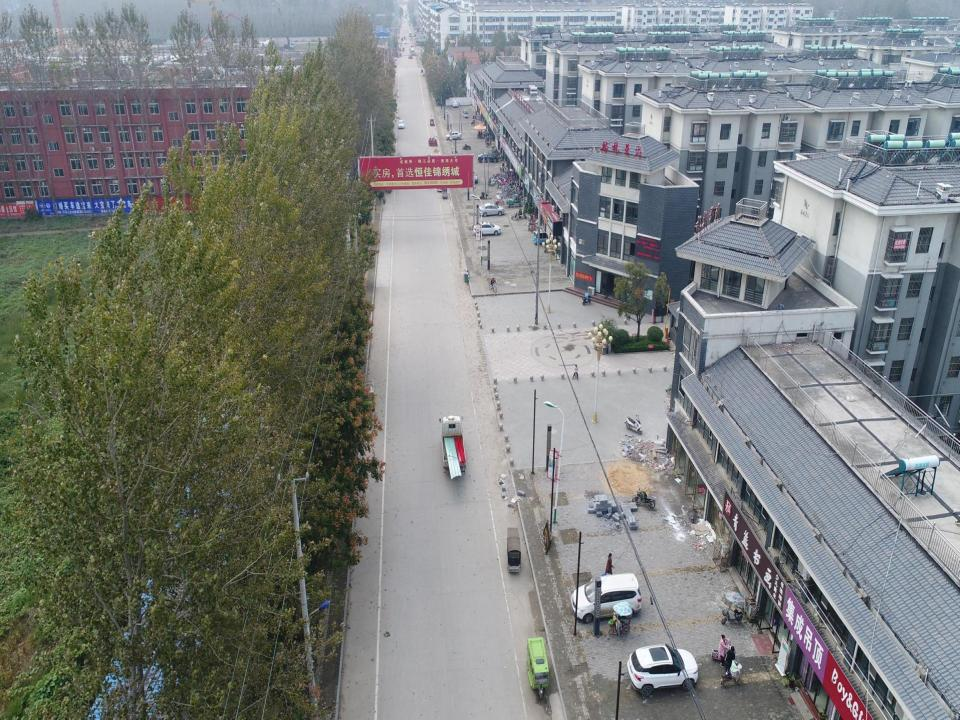car: (626, 643, 700, 697), (571, 572, 642, 624), (473, 220, 500, 236), (479, 202, 505, 217), (477, 152, 498, 163), (467, 167, 478, 184), (434, 179, 446, 193), (445, 131, 461, 140), (452, 100, 460, 108), (398, 119, 404, 128), (390, 55, 398, 61), (390, 63, 398, 68), (403, 39, 408, 46), (408, 54, 413, 59)
truck: (439, 416, 467, 476), (408, 29, 412, 37), (410, 48, 414, 55)
